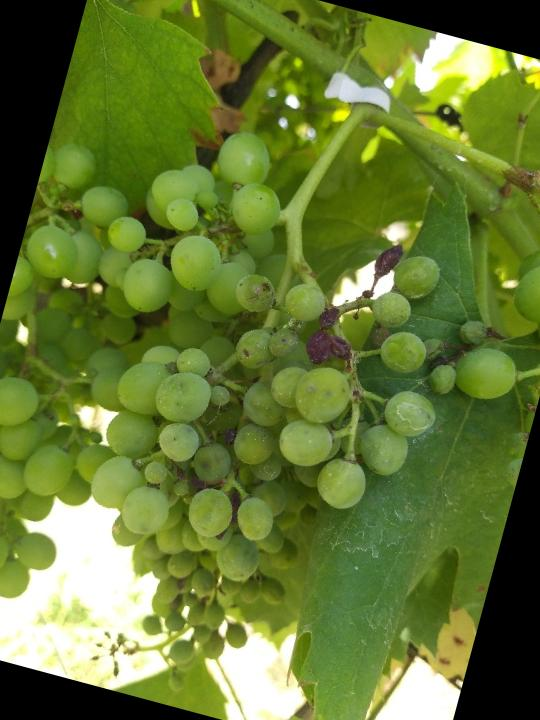grape: (24, 103, 497, 625)
